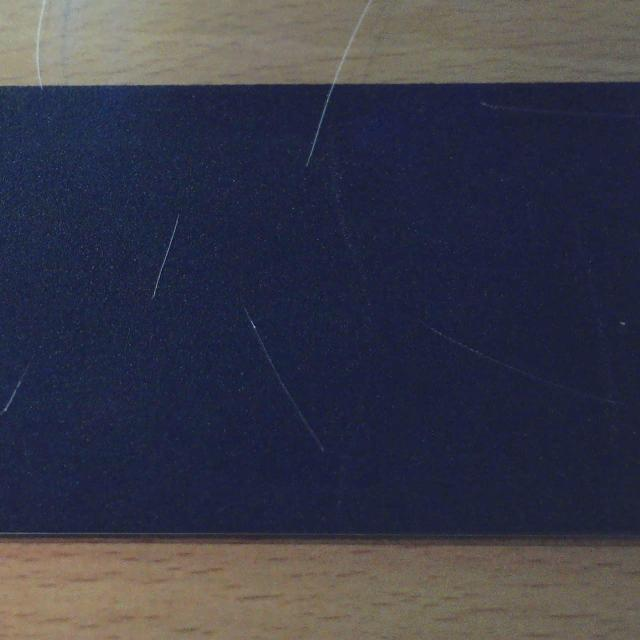defect: (242, 304, 332, 455), (419, 321, 578, 395), (307, 84, 338, 168), (148, 214, 179, 297), (0, 356, 35, 419)
